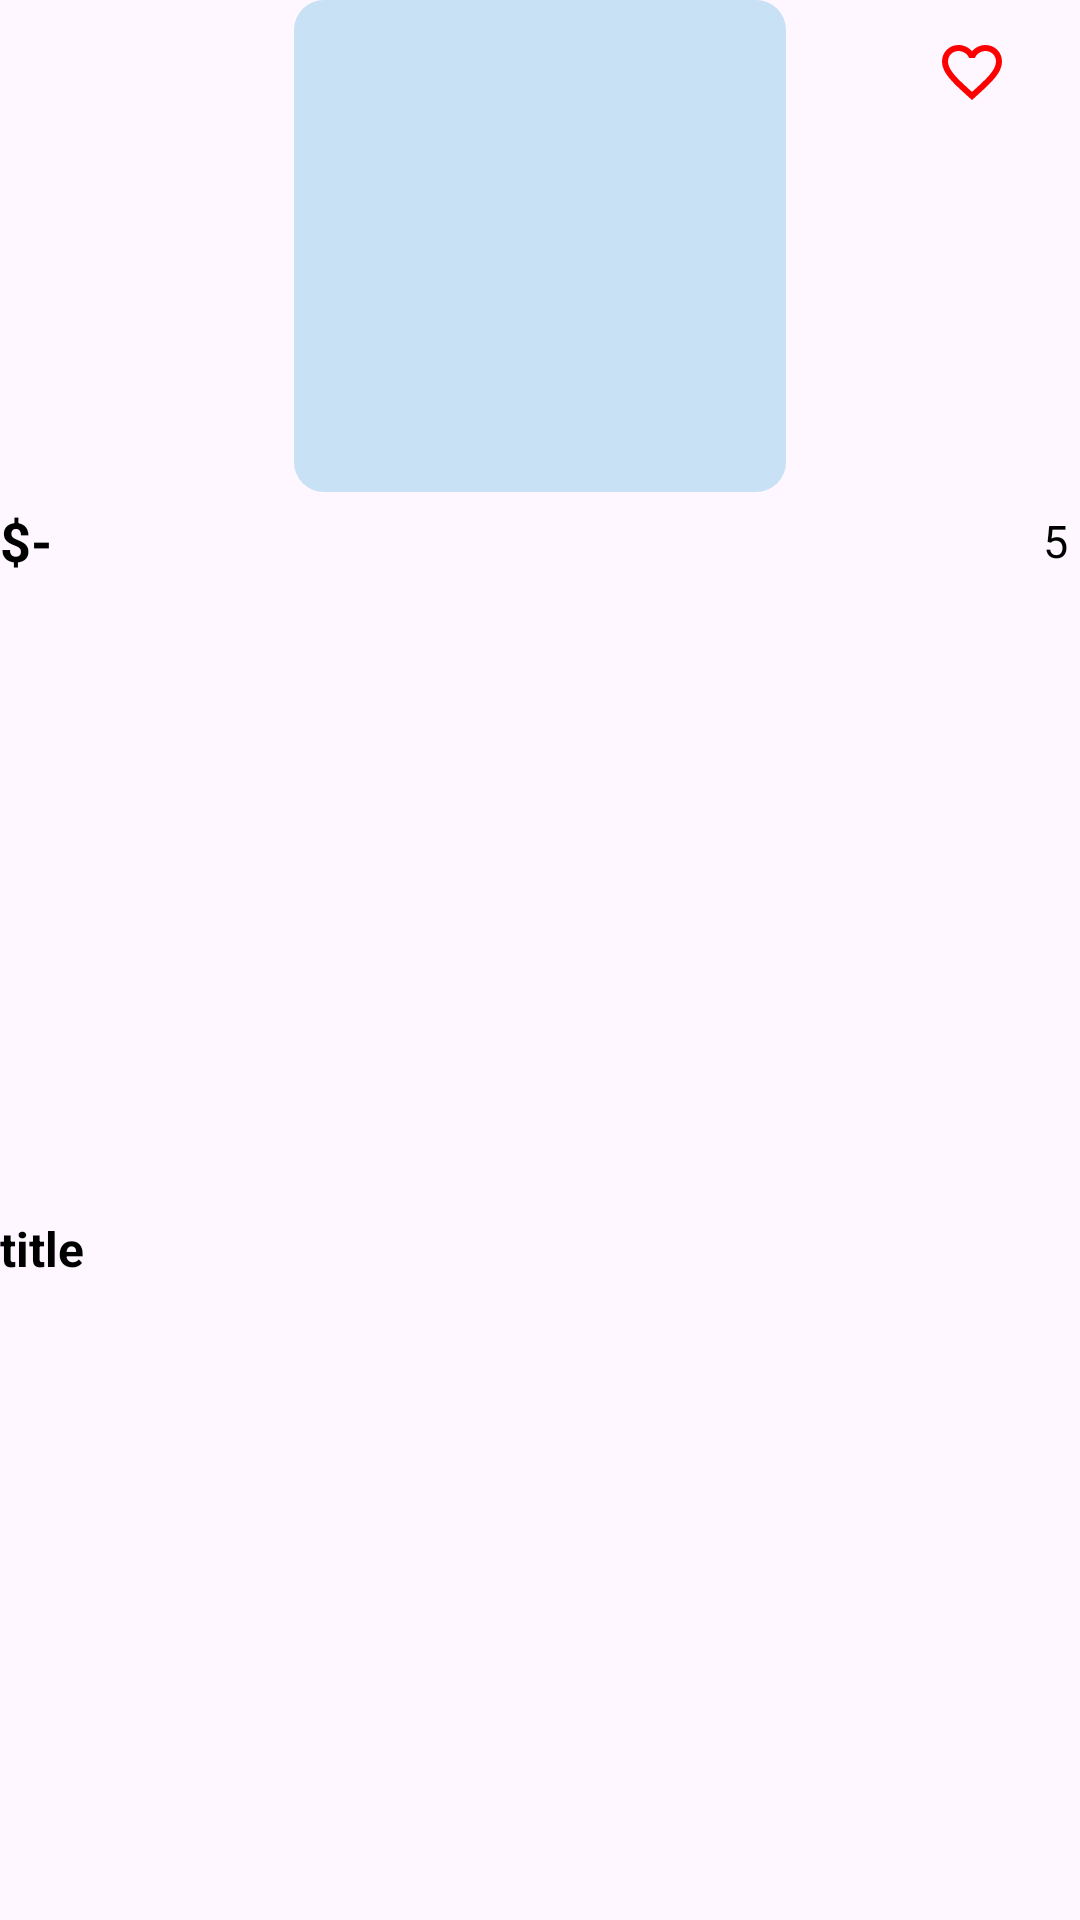

Where icons sit on this 1080px×1920px app screen, as (x1,y1,x2,y2):
wishlist item: (942,45,1002,100)
